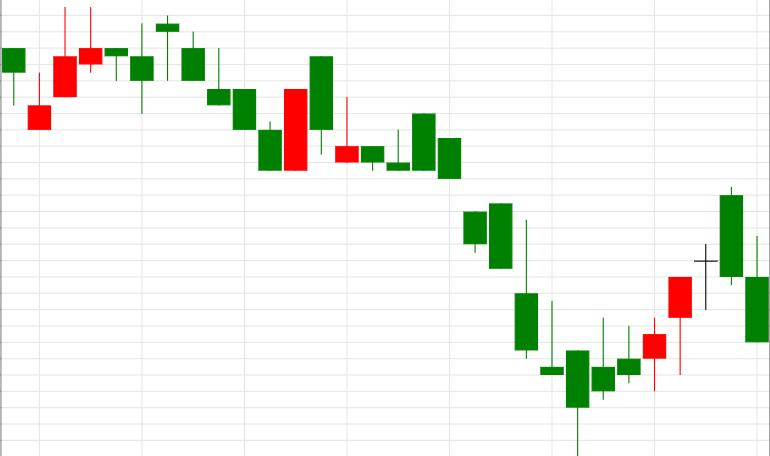bullish_engulfing_rise: (156, 15, 307, 171)
hanging_man_fall: (566, 276, 693, 456)
